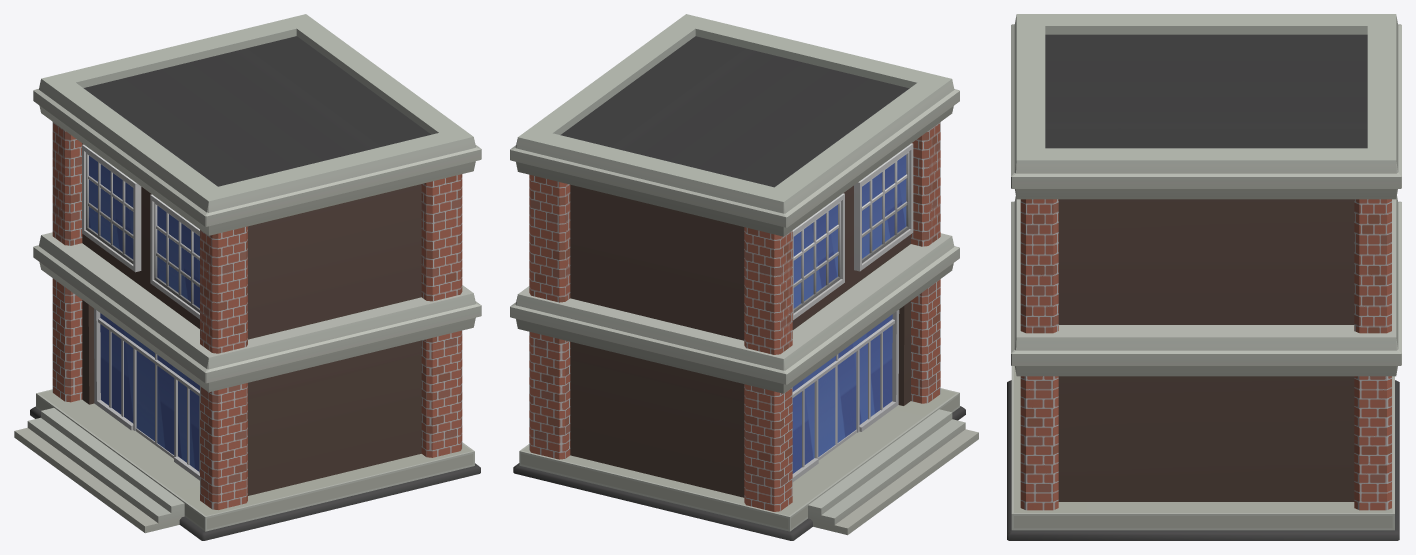
File: Building_9_2_J.fbx
3 renders of one model, left to right at view 1: azimuth 30°, elevation 25°; view 2: azimuth 150°, elevation 25°; view 3: azimuth 270°, elevation 25°, orthographic. The views are drawn at different scales.
Visible parts, largest first — view 1: Building_9_2_J; view 2: Building_9_2_J; view 3: Building_9_2_J.
Boxes of the visible parts, x1,y1,x2,y2 form: Building_9_2_J: (14,14,481,540); Building_9_2_J: (510,14,978,540); Building_9_2_J: (1007,14,1401,540).
Bounding box in the file's own units: 947 × 958 × 906.
